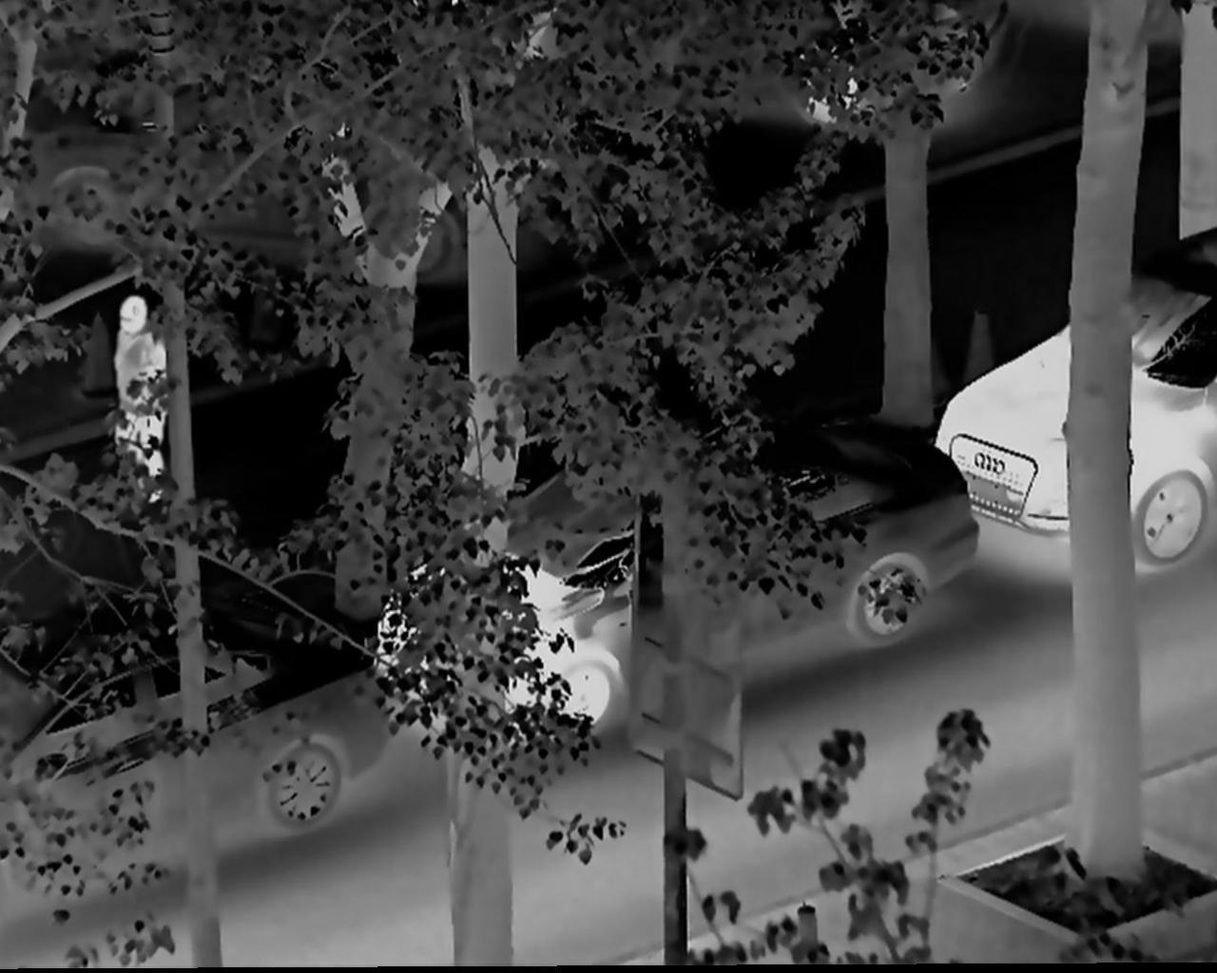person: (96, 295, 173, 494)
